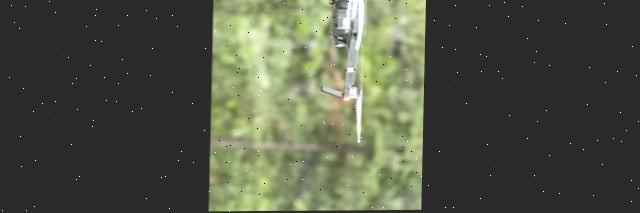drone: (291, 0, 394, 155)
